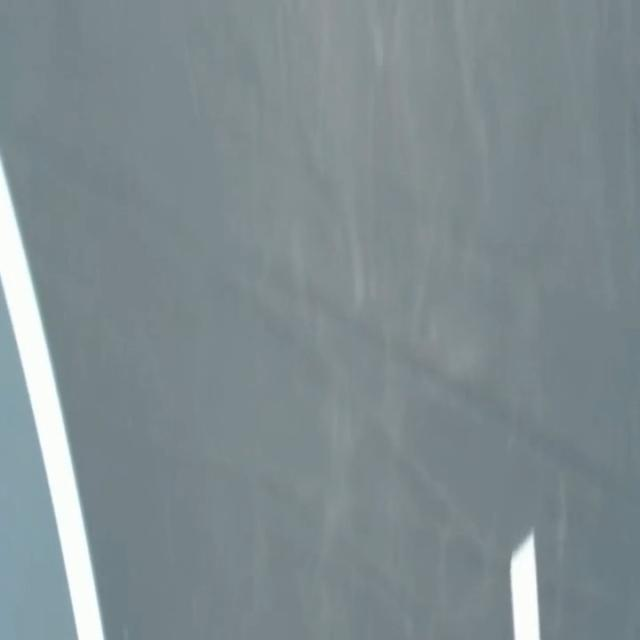center: (510, 532, 540, 639)
left: (0, 156, 104, 639)
